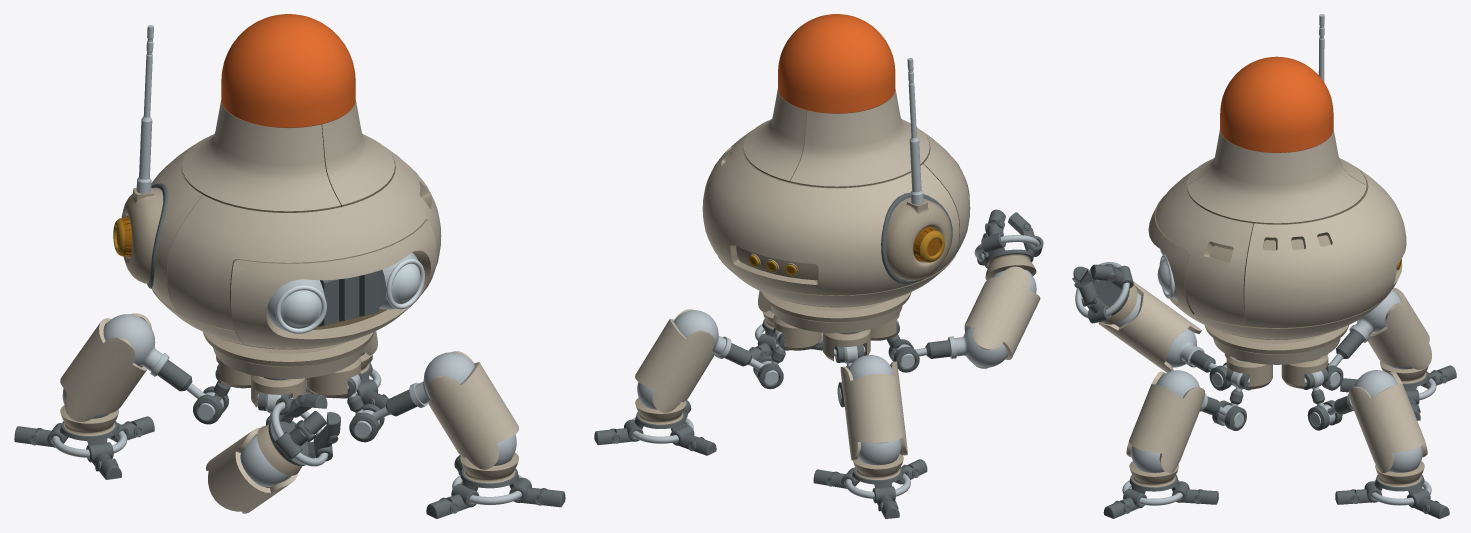
The model's file is Robot Police little helper.fbx.
3 views of the same model, side by side, from view 1: azimuth 30°, elevation 25°; view 2: azimuth 150°, elevation 25°; view 3: azimuth 270°, elevation 25° (orthographic). The views are drawn at different scales.
Parts seen in each view (by area): view 1: Cylinder.028, Cylinder.027, Sphere.007, Cylinder.049, Cylinder.009, Cylinder.021, Cylinder.001, Cylinder.056, Cylinder.036, Cylinder.051, Cube.011, Sphere.017 (+24 smaller); view 2: Cylinder.051, Cylinder.027, Sphere.007, Cylinder.015, Cylinder.021, Cylinder.056, Cylinder.036, Cylinder.001, Cylinder.050, Cylinder.028, Sphere.014, Sphere.011 (+17 smaller); view 3: Cylinder.051, Cylinder.027, Sphere.007, Cylinder.028, Cylinder.009, Cylinder.015, Cylinder.036, Cylinder.001, Cylinder.021, Cylinder.050, Cylinder.049, Sphere.017 (+20 smaller).
Boxes of the visible parts, x1,y1,x2,y2 form: Cylinder.028: [167, 156, 441, 330]; Cylinder.027: [182, 100, 394, 212]; Sphere.007: [221, 14, 355, 127]; Cylinder.049: [230, 219, 436, 348]; Cylinder.009: [427, 351, 519, 469]; Cylinder.021: [60, 313, 151, 421]; Cylinder.001: [203, 332, 373, 378]; Cylinder.056: [113, 187, 163, 283]; Cylinder.036: [206, 428, 297, 513]; Cylinder.051: [151, 141, 419, 311]; Cube.011: [318, 271, 379, 326]; Sphere.017: [257, 402, 328, 475]; Cylinder.051: [702, 130, 959, 295]; Cylinder.027: [743, 89, 929, 187]; Sphere.007: [778, 14, 895, 113]; Cylinder.015: [635, 309, 714, 412]; Cylinder.021: [840, 361, 907, 460]; Cylinder.056: [886, 197, 951, 280]; Cylinder.036: [964, 266, 1040, 368]; Cylinder.001: [762, 292, 911, 333]; Cylinder.050: [718, 253, 956, 306]; Cylinder.028: [920, 130, 970, 263]; Sphere.014: [845, 454, 910, 498]; Sphere.011: [632, 397, 693, 443]; Cylinder.051: [1243, 166, 1406, 327]; Cylinder.027: [1187, 129, 1366, 224]; Sphere.007: [1220, 56, 1333, 152]; Cylinder.028: [1155, 168, 1253, 326]; Cylinder.009: [1126, 371, 1204, 473]; Cylinder.015: [1349, 371, 1427, 473]; Cylinder.036: [1098, 281, 1201, 372]; Cylinder.001: [1204, 325, 1348, 364]; Cylinder.021: [1357, 287, 1431, 369]; Cylinder.050: [1194, 291, 1390, 339]; Cylinder.049: [1148, 195, 1203, 324]; Sphere.017: [1075, 262, 1137, 324].
Size of the model in its own units: 404 by 496 by 451.
